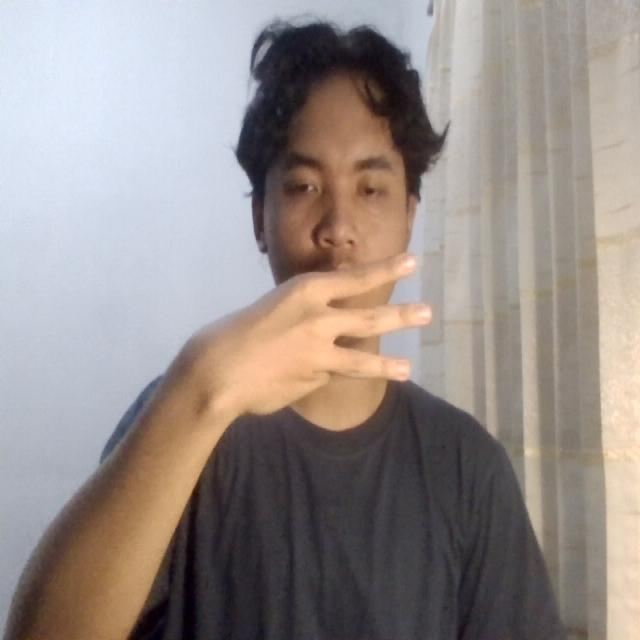E: (215, 234, 447, 438)
